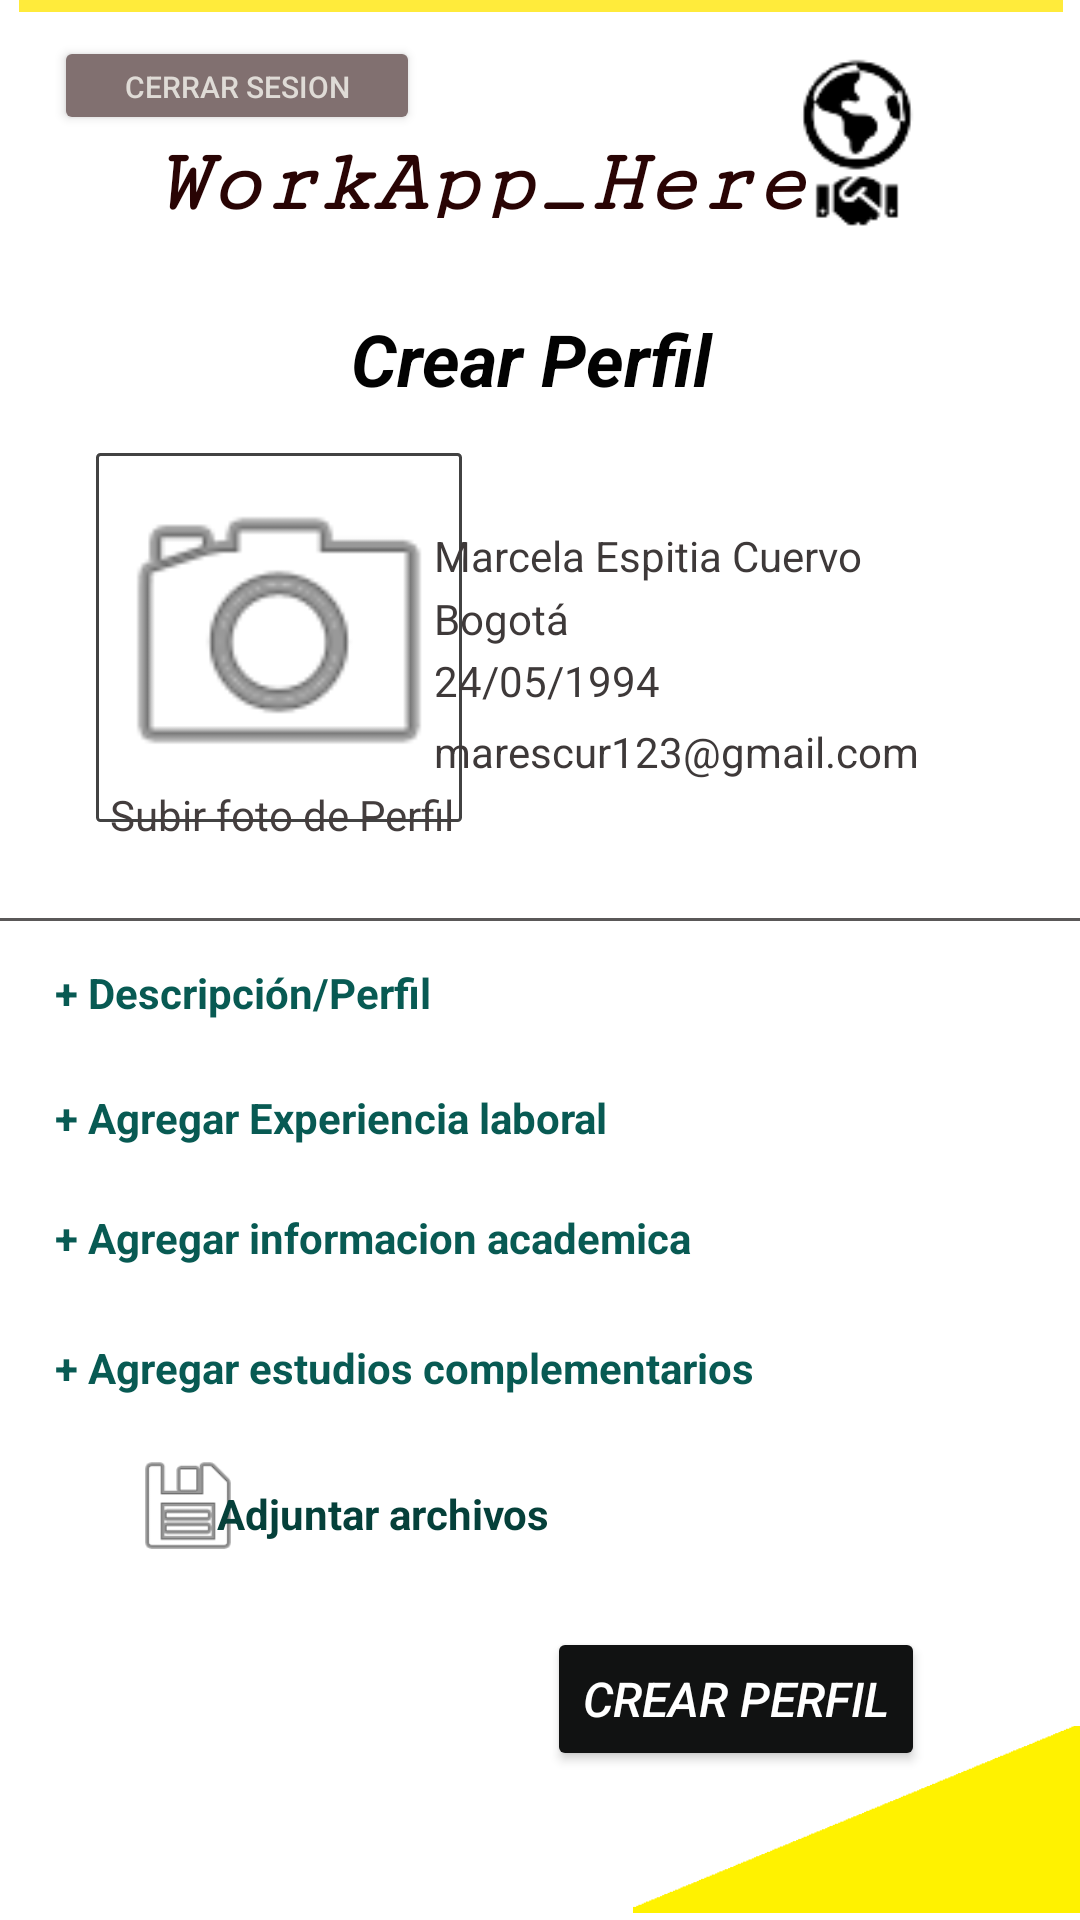

Locate icon controls on the screen. Image size 1080px×1920px, boxes as (x1, y1, x2, y2).
camera: (137, 517, 458, 805)
save: (145, 1462, 263, 1549)
